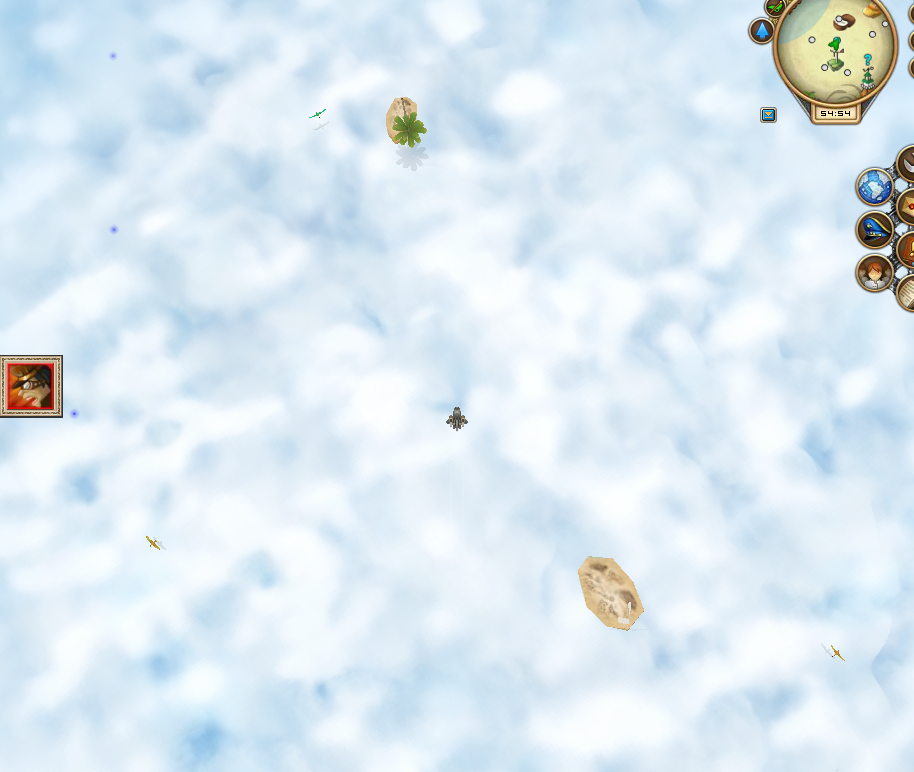palm: (379, 88, 428, 152)
